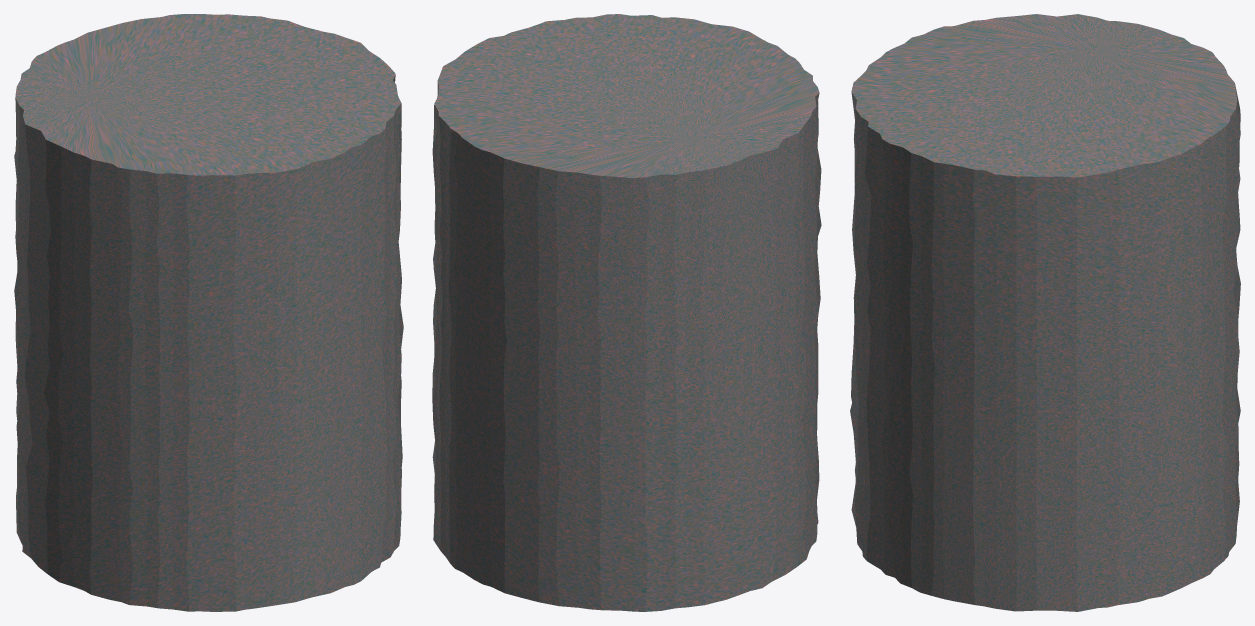
File: barrel_8.dae
The picture shows the model from 3 angles, left to right: view 1: azimuth 30°, elevation 25°; view 2: azimuth 150°, elevation 25°; view 3: azimuth 270°, elevation 25°; orthographic projection.
Visible parts, largest first — view 1: Cylinder; view 2: Cylinder; view 3: Cylinder.
Part boxes in pixels (x1,y1,x2,y2): Cylinder: (14,14,403,611); Cylinder: (432,14,821,611); Cylinder: (850,14,1240,611).
Bounding box in the file's own units: 0.8149 × 0.8147 × 1.
1 material, 1 textured.
